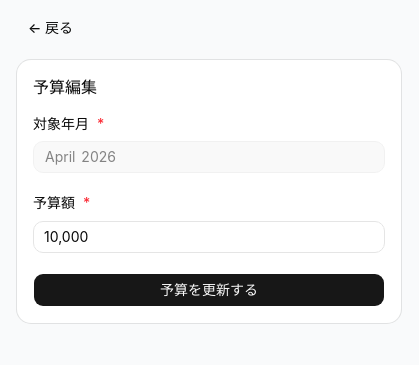
Test case: EditBudget › 保存に失敗した場合はエラー表示されること
Click the button "予算を更新する". click: (209, 290)
box: [33, 272, 385, 306]
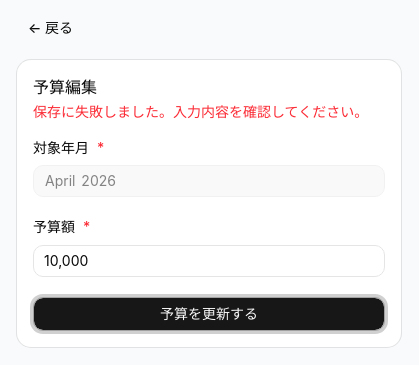
Expected: the text "保存に失敗しました。入力内容を確認してください。" is shown, [33, 102, 385, 122]
